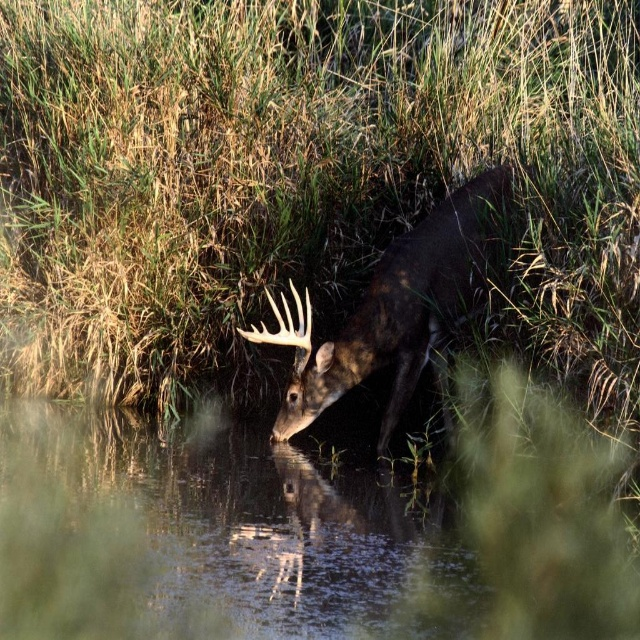Deer: (236, 164, 539, 450)
